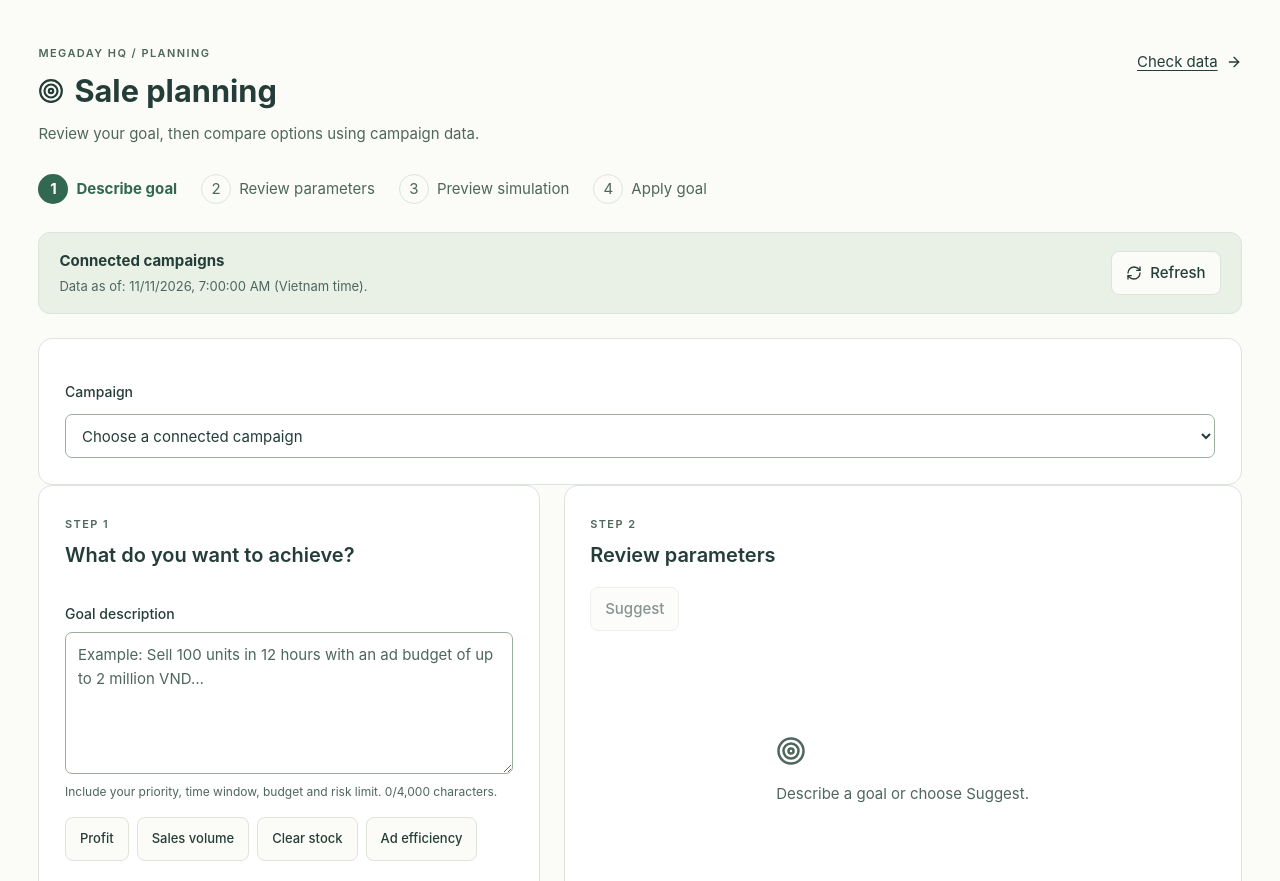
sale goal review and real simulation › renders actual returned values with quantiles and calculation provenance
Expected: the button "Refresh" is enabled, [1111,251,1221,295]
Replace the text in the text box labelled "Goal description" with "Tối ưu lợi nhuận" at (289, 703), box [65,632,513,774]
(page scrolled)
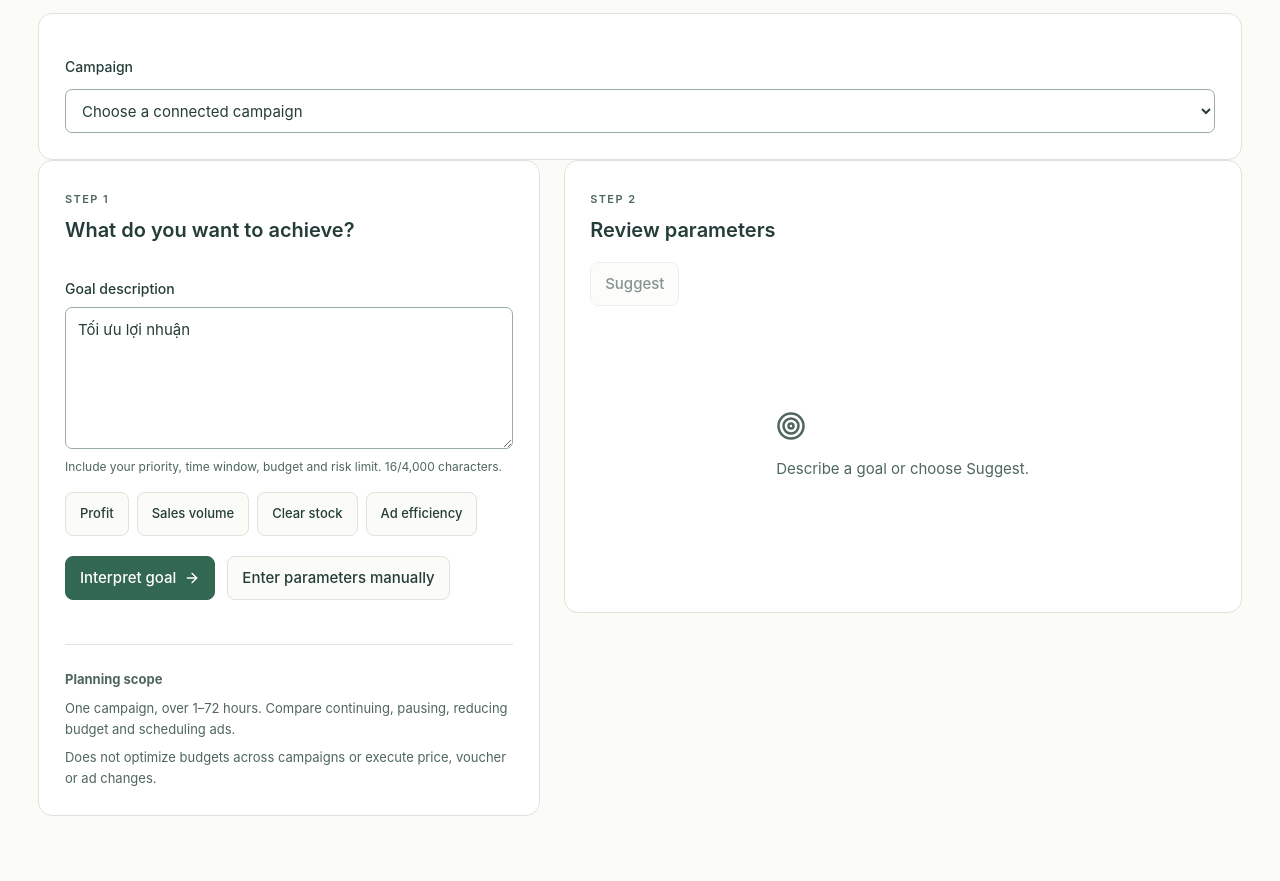
Click the button "Interpret goal" at (140, 578), box [65,556,215,600]
(page scrolled)
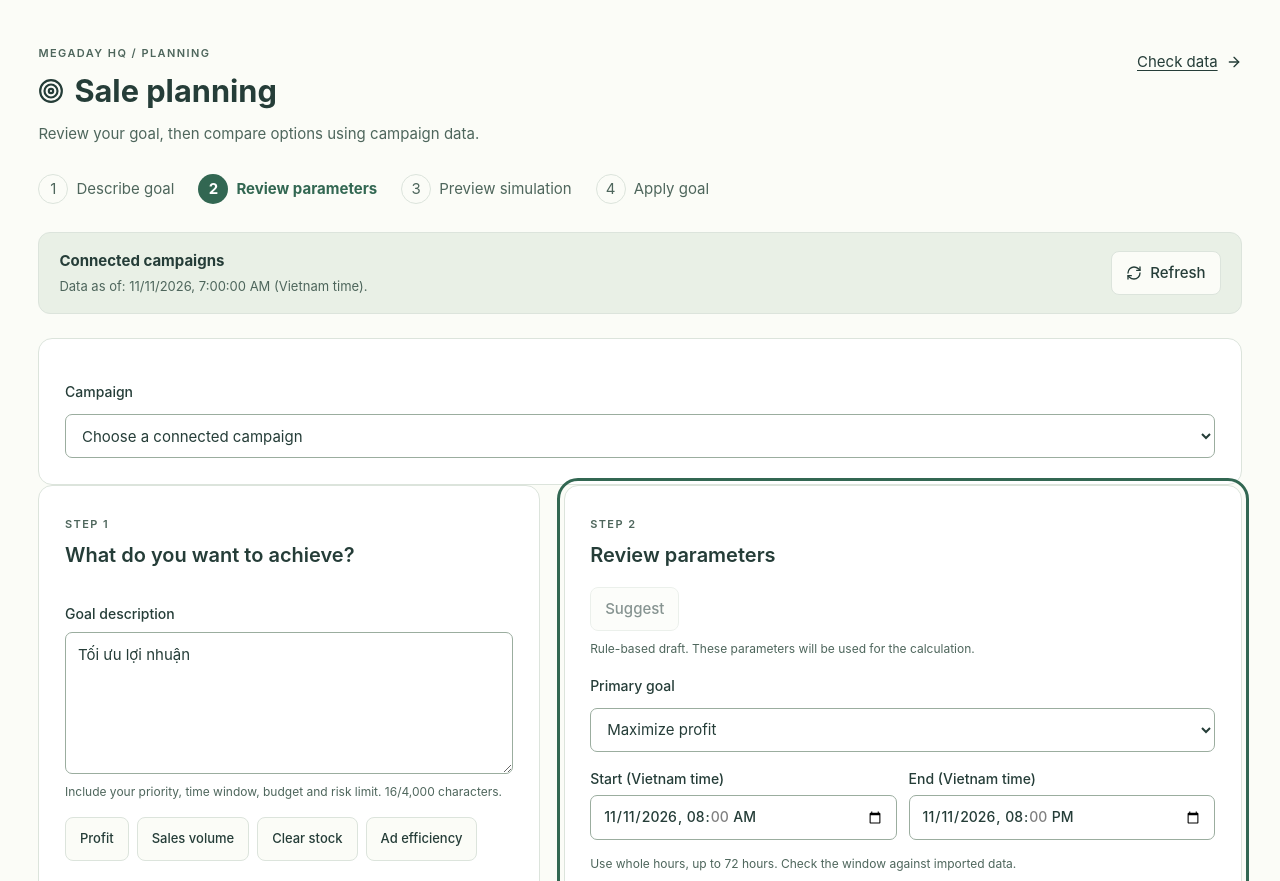
Now the dropdown labelled "Primary goal" is shown, box [590,708,1215,752]
Select "Chiến dịch thực" in the dropdown labelled "Campaign" at (640, 436), box [65,414,1215,458]
(page scrolled)
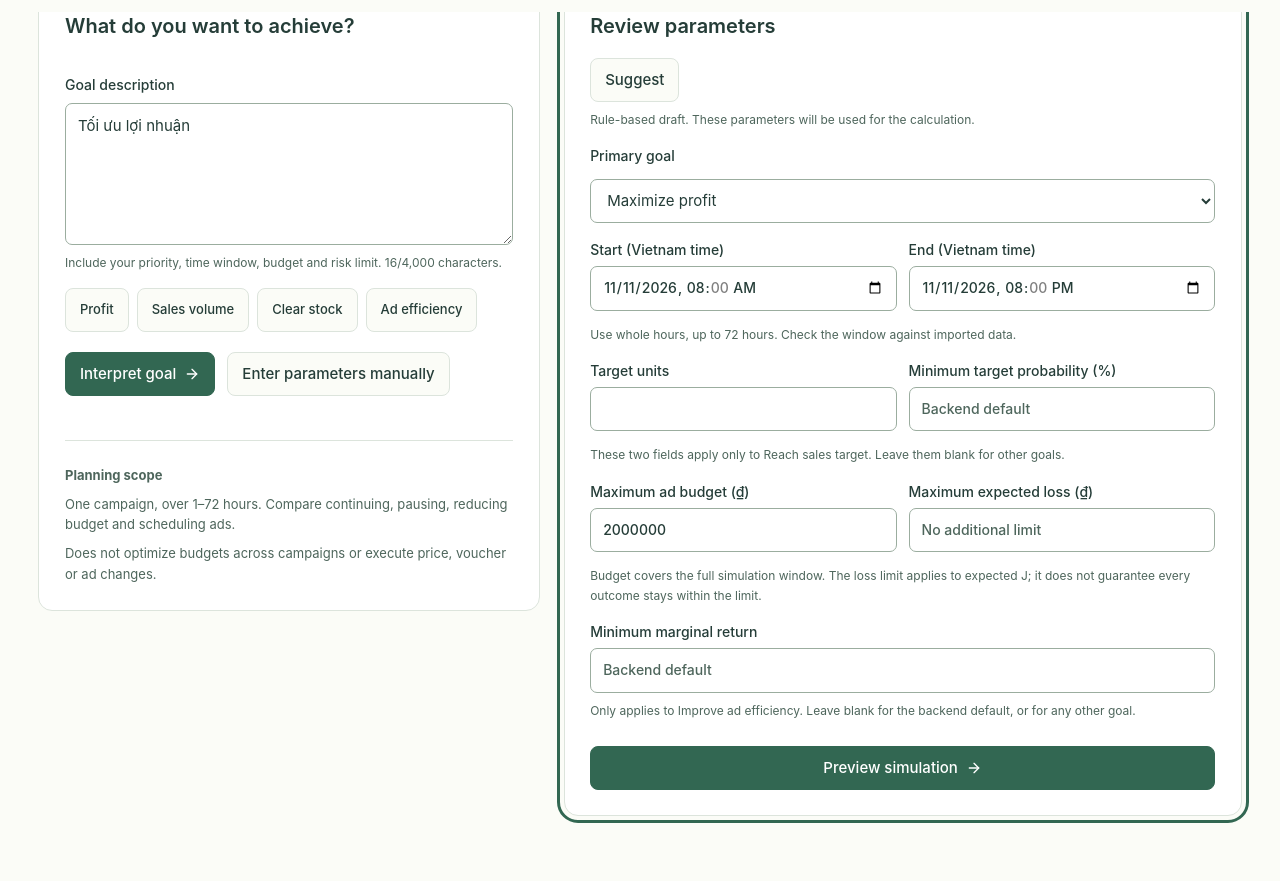
Click the button "Preview simulation" at (903, 768), box [590,746,1215,790]
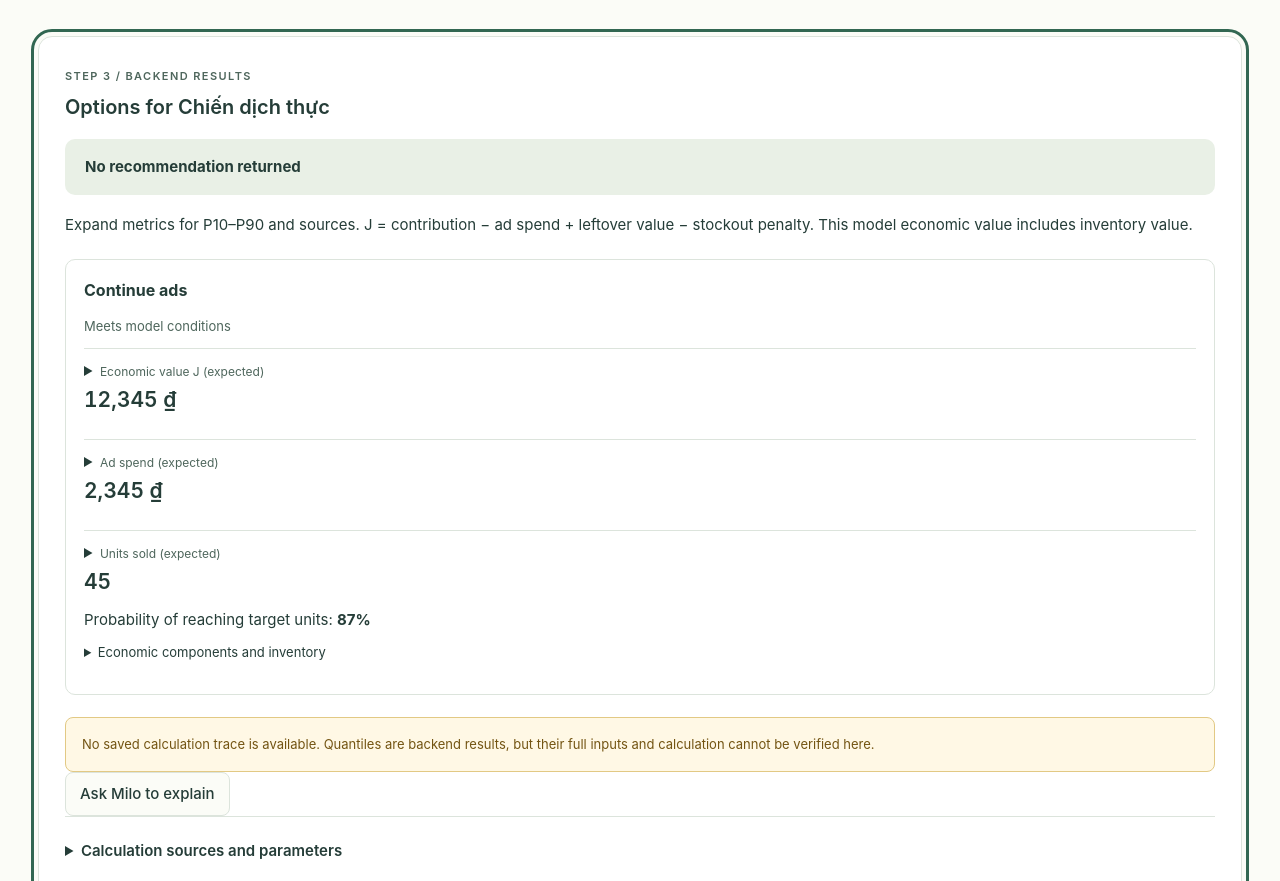
Now the heading "Options for Chiến dịch thực" is shown, box [65,95,330,119]
Now the text "12,345 ₫" is shown 3 times
Now the text "2,345 ₫" is shown, box [84,478,163,503]
